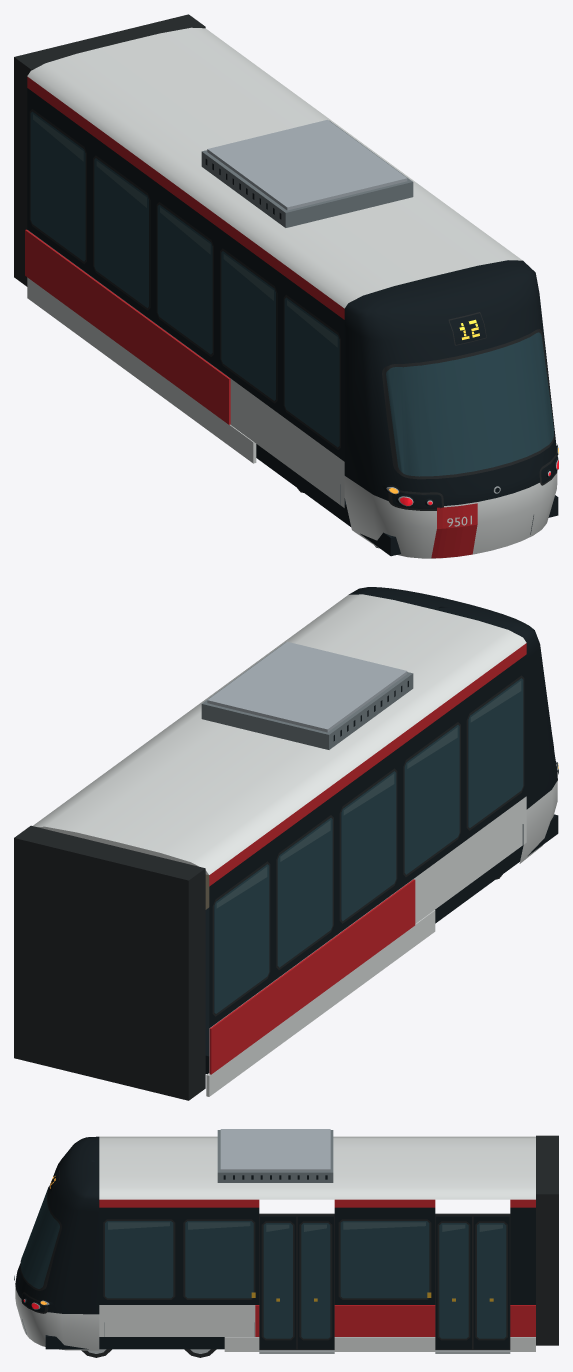
The model's file is 52t-e-viewer.glb.
The picture shows the model from 3 angles, top to bottom: view 1: azimuth 30°, elevation 25°; view 2: azimuth 150°, elevation 25°; view 3: azimuth 270°, elevation 25°; orthographic projection. The views are drawn at different scales.
Visible parts, largest first — view 1: 52t-e; view 2: 52t-e; view 3: 52t-e, 52t-e-door-1--0.370-0, 52t-e-door-1--0.370-1, 52t-e-door-1--3.410-0, 52t-e-door-1--3.410-1.
Boxes of the visible parts, x1=… form: 52t-e: x1=14, y1=14, x2=558, y2=558; 52t-e: x1=14, y1=587, x2=558, y2=1100; 52t-e: x1=14, y1=1129, x2=558, y2=1357; 52t-e-door-1--0.370-0: x1=297, y1=1216, x2=333, y2=1349; 52t-e-door-1--0.370-1: x1=260, y1=1216, x2=296, y2=1349; 52t-e-door-1--3.410-0: x1=473, y1=1216, x2=509, y2=1349; 52t-e-door-1--3.410-1: x1=436, y1=1216, x2=471, y2=1349.
Bounding box in the file's own units: 2.62 × 3.59 × 9.42.
